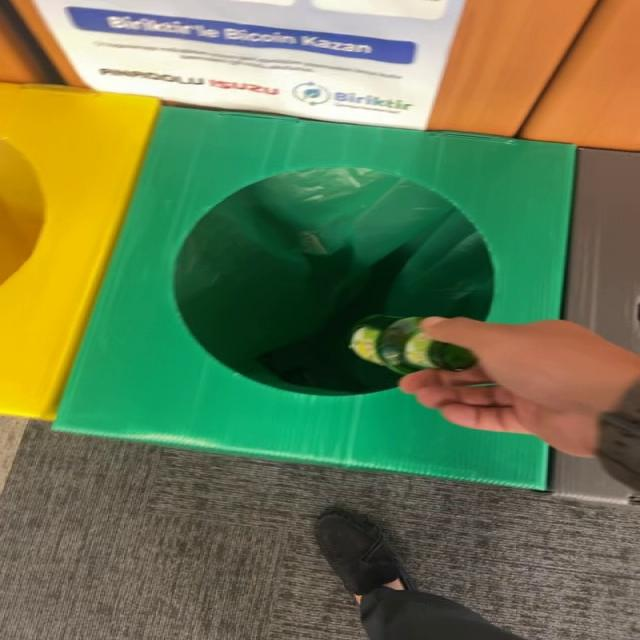glass: (349, 317, 477, 375)
